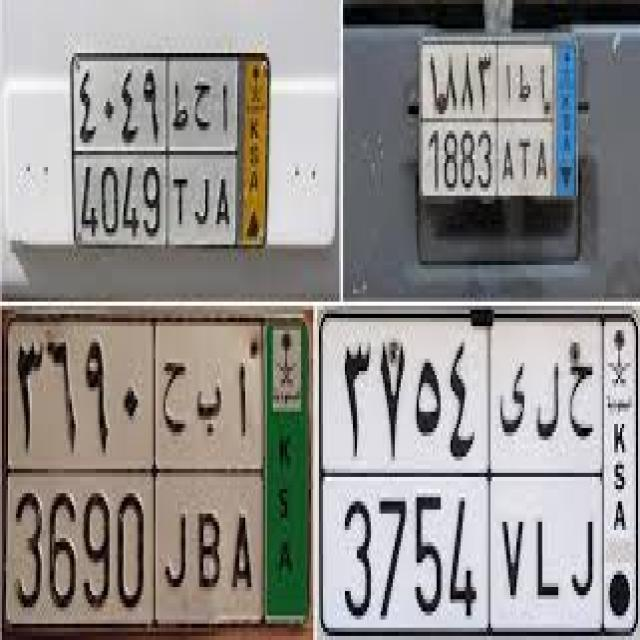license_plate: (317, 305, 640, 640), (0, 310, 313, 640), (70, 49, 273, 253), (417, 37, 582, 208)
